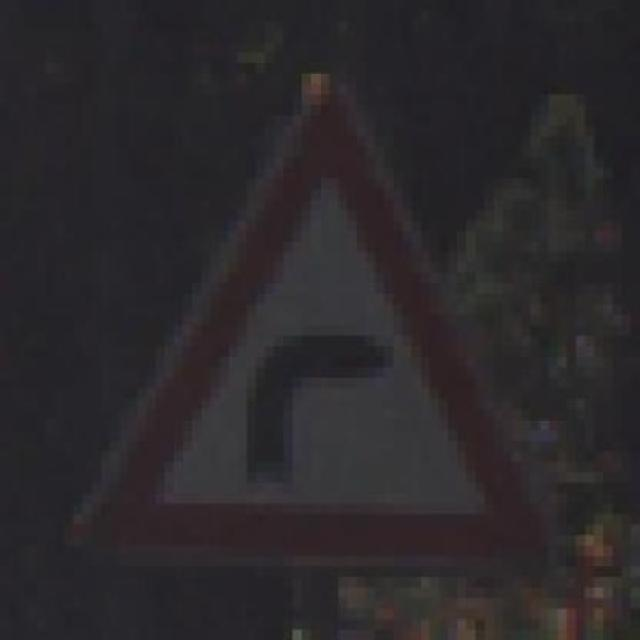Dangerous Rright Curve Ahead: (64, 73, 558, 578)
